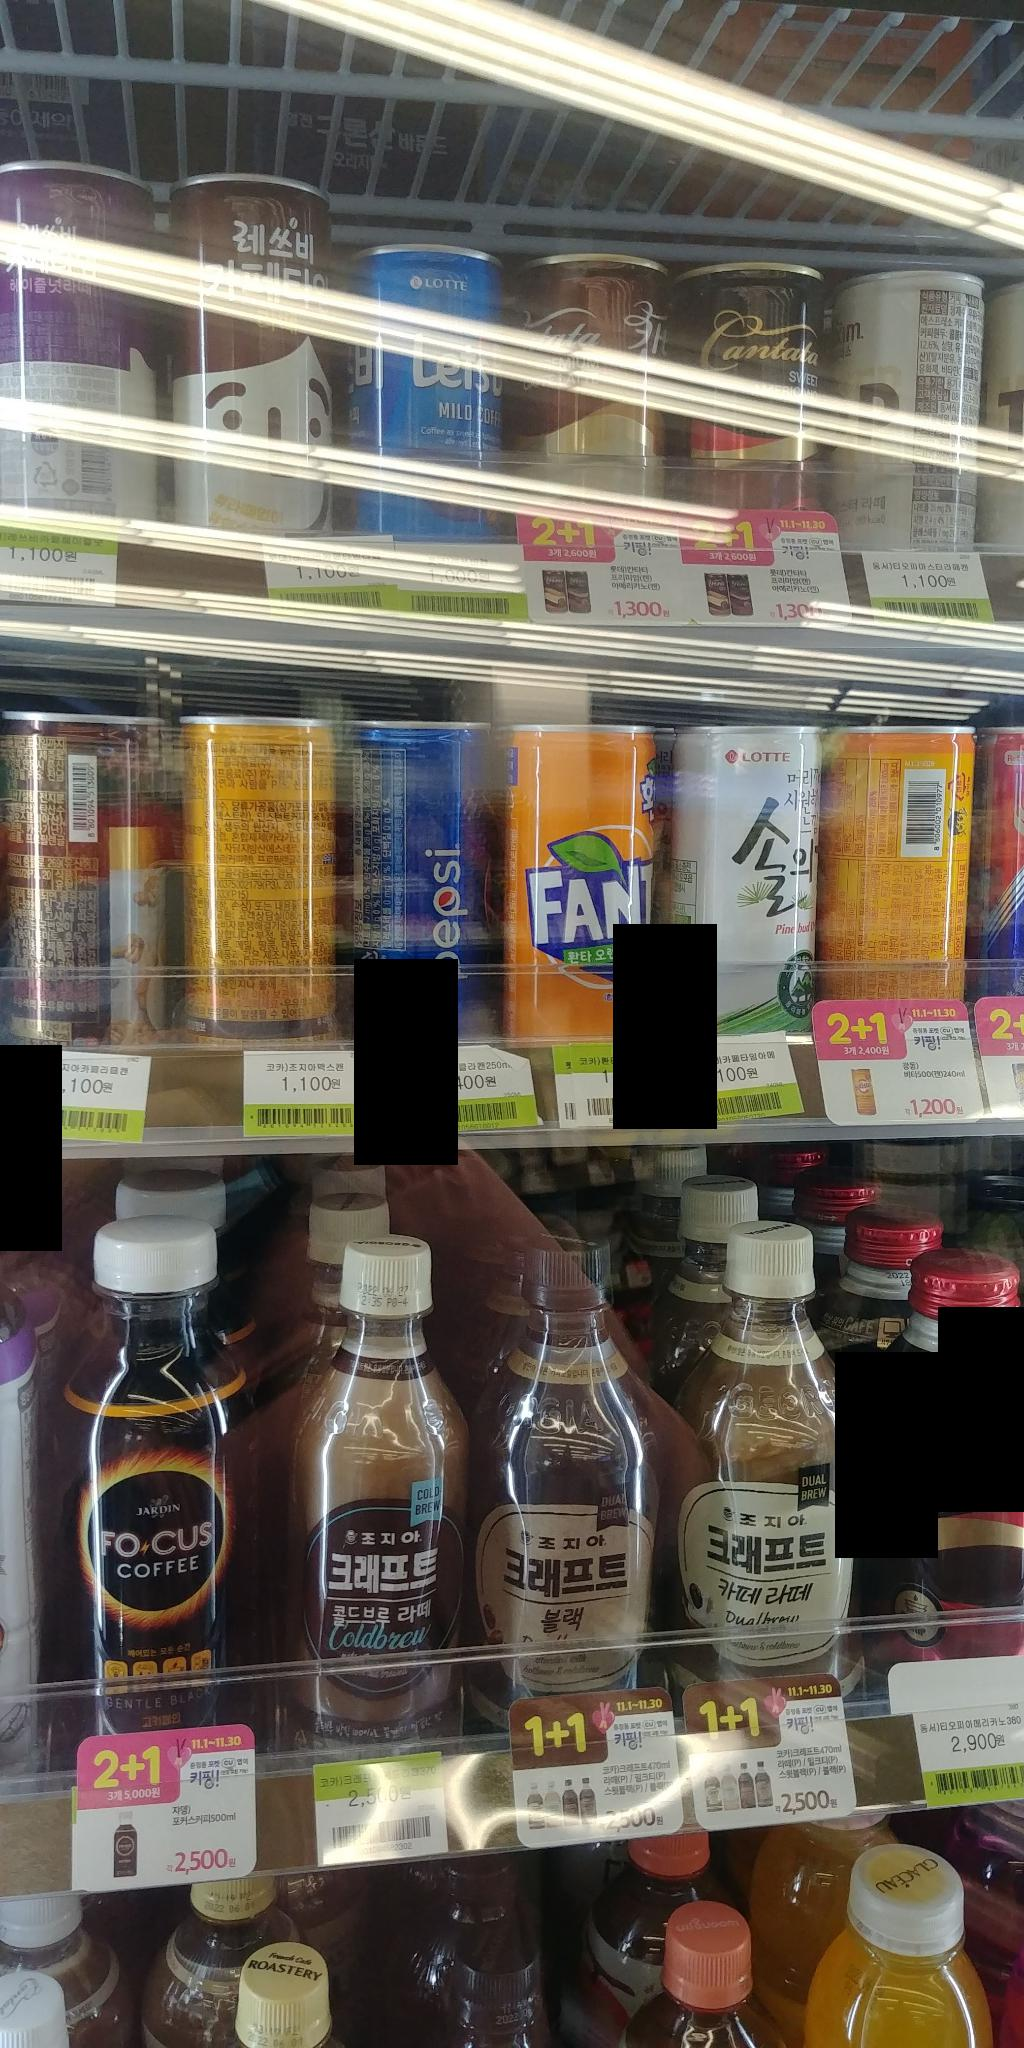georgiacraft_black: (462, 1216, 669, 1723)
letsbe: (319, 231, 529, 552)
